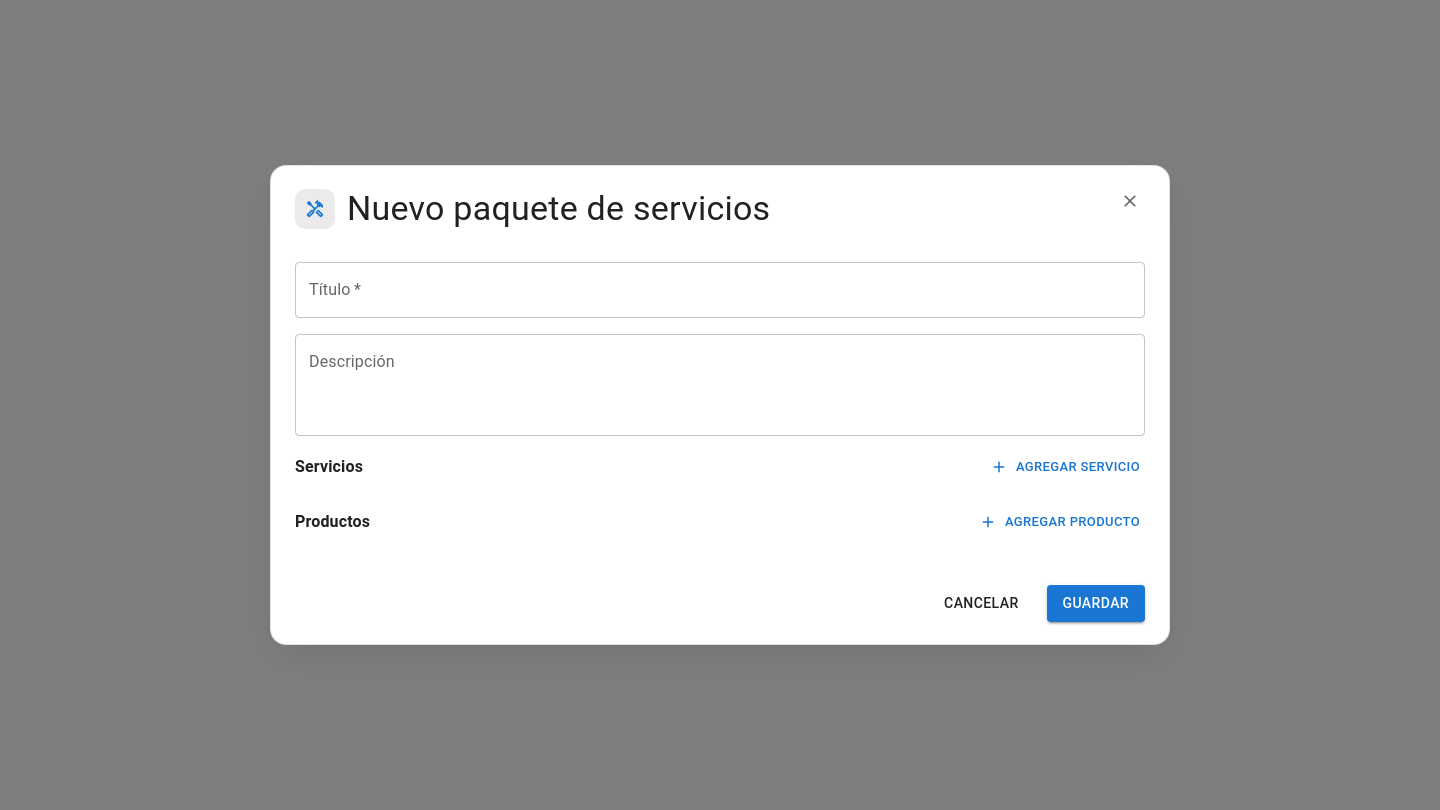
Test case: CannedJobFormDialog › given form, when clicking agregar producto, then adds a product row
Click the button "Agregar producto".
click(1060, 522)  # box [976,507,1145,538]
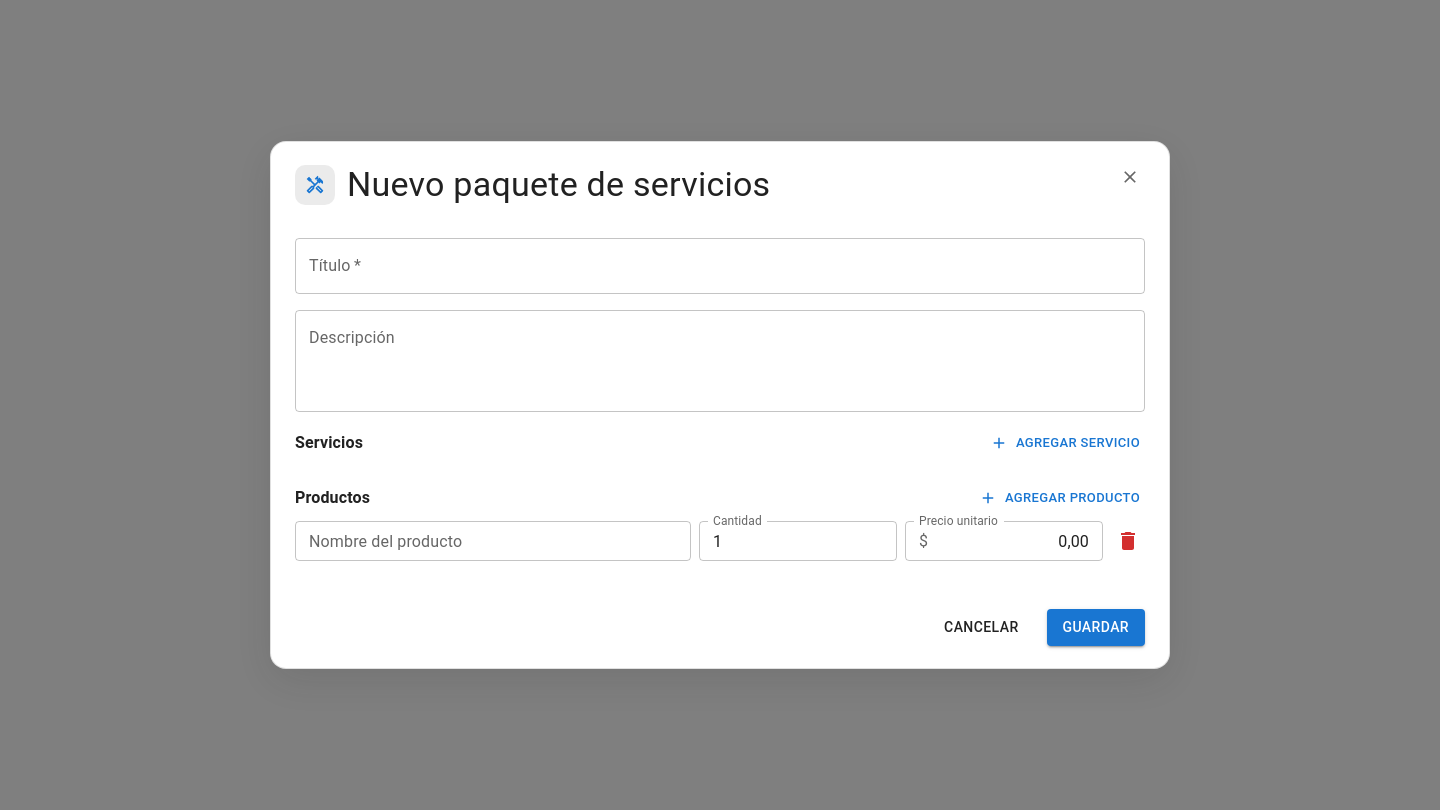
Expected: the dropdown labelled "Nombre del producto" is shown, [301,528,682,556]
Expected: the number field labelled "Cantidad" is shown, [699,522,897,562]
Expected: the field labelled "Precio unitario" is shown, [936,522,1103,562]
